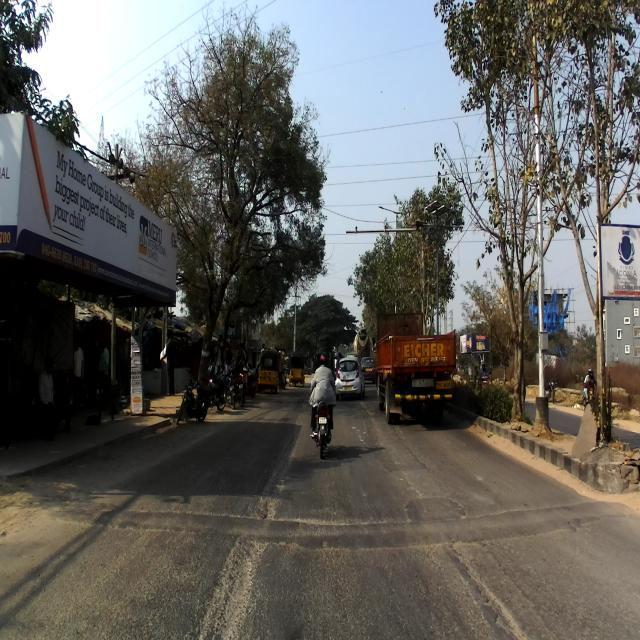motorcycle ahead at: (302, 407, 340, 456)
truck ahead at: (376, 304, 465, 426)
